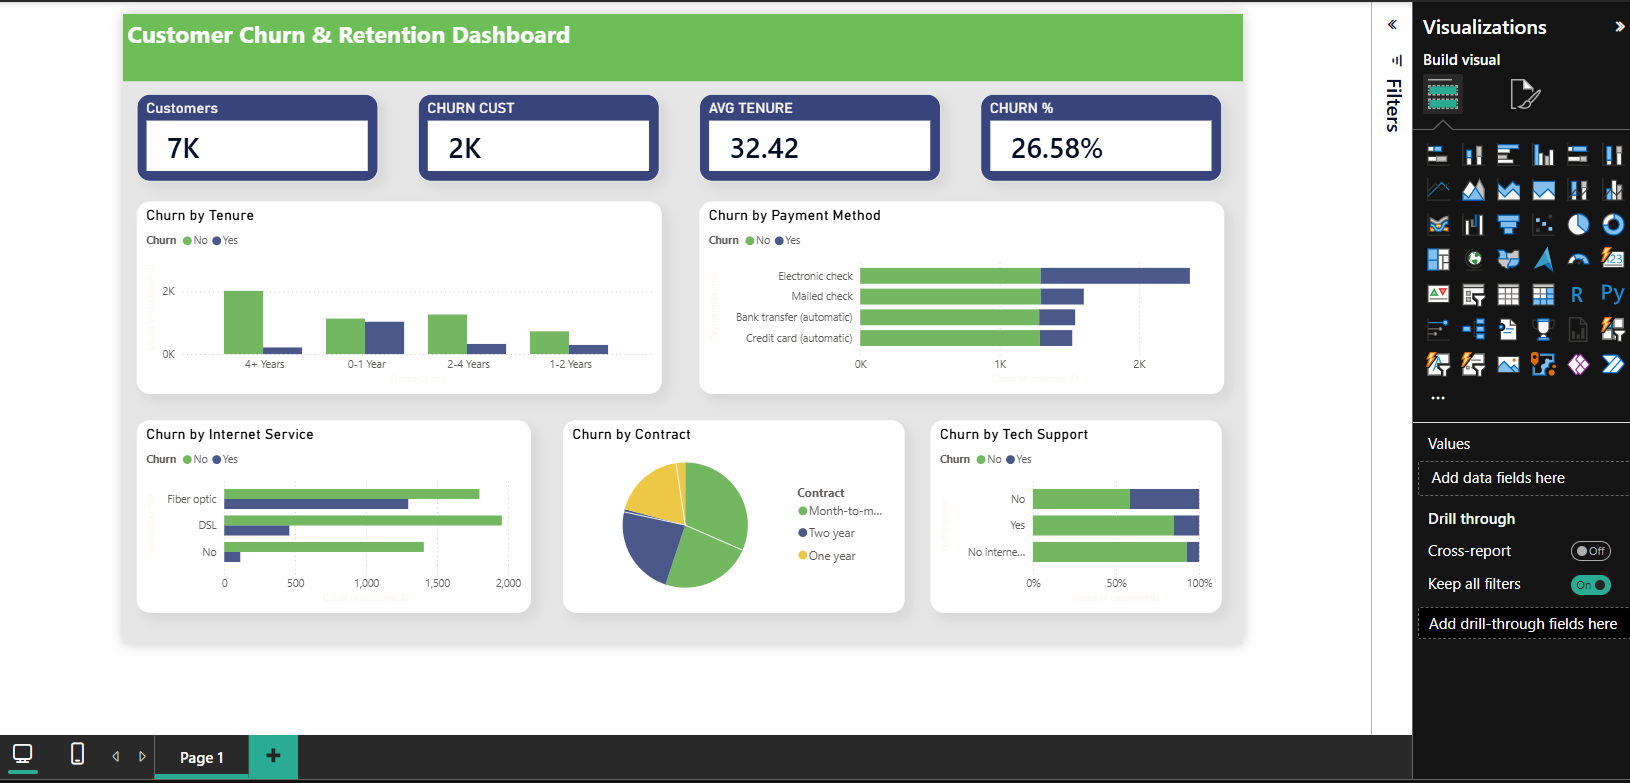

Layout of this report page (visuals, bound fields, positions):
{"tool":"powerbi","page":{"name":"Page 1","canvas":[1280,720],"ordinal":0},"visuals":[{"type":"cardVisual","title":"Customers","fields":{"Data":["Teleco-customer-churn_csv.Total Customers"]},"box":[15.7,91.4,275.7,100],"z":0},{"type":"cardVisual","title":"CHURN CUST","fields":{"Data":["Teleco-customer-churn_csv.Churn Customers"]},"box":[337.1,91.4,275.7,100],"z":1000},{"type":"cardVisual","title":"CHURN %","fields":{"Data":["Teleco-customer-churn_csv.Churn Rate"]},"box":[980,91.4,275.7,100],"z":2000},{"type":"cardVisual","title":"AVG TENURE","fields":{"Data":["Teleco-customer-churn_csv.Avg Tenure"]},"box":[658.6,91.4,275.7,100],"z":3000},{"type":"clusteredColumnChart","title":"Churn by Tenure","fields":{"Category":["Teleco-customer-churn_csv.Tenure Group"],"Series":["Teleco-customer-churn_csv.Churn"],"Y":["CountNonNull(Teleco-customer-churn_csv.customerID)"]},"box":[15.7,214.3,600,220],"z":4000},{"type":"pieChart","title":"Churn by Contract","fields":{"Category":["Teleco-customer-churn_csv.Contract"],"Series":["Teleco-customer-churn_csv.Churn"],"Y":["CountNonNull(Teleco-customer-churn_csv.customerID)"]},"box":[502.9,464.3,390,220],"z":5000},{"type":"barChart","title":"Churn by Payment Method","fields":{"Series":["Teleco-customer-churn_csv.Churn"],"Category":["Teleco-customer-churn_csv.PaymentMethod"],"Y":["CountNonNull(Teleco-customer-churn_csv.customerID)"]},"box":[658.6,214.3,600,220],"z":6000},{"type":"clusteredBarChart","title":"Churn by Internet Service","fields":{"Series":["Teleco-customer-churn_csv.Churn"],"Y":["CountNonNull(Teleco-customer-churn_csv.customerID)"],"Category":["Teleco-customer-churn_csv.InternetService"]},"box":[15.7,464.3,450,220],"z":7000},{"type":"hundredPercentStackedBarChart","title":"Churn by Tech Support","fields":{"Series":["Teleco-customer-churn_csv.Churn"],"Y":["CountNonNull(Teleco-customer-churn_csv.customerID)"],"Category":["Teleco-customer-churn_csv.TechSupport"]},"box":[922.9,464.3,332.9,220],"z":8000},{"type":"textbox","box":[0,0,1280,77.1],"z":9000}]}

Visuals, with their boxes on the page's 1280x720 design canvas (x1, y1, x2, y2). These are canvas units, not pixel positions in the 1630x783 screenshot, which may show the page scaled, cropped or inside an application window:
"Customers" cardVisual: box=[16, 91, 291, 191]
"CHURN CUST" cardVisual: box=[337, 91, 613, 191]
"CHURN %" cardVisual: box=[980, 91, 1256, 191]
"AVG TENURE" cardVisual: box=[659, 91, 934, 191]
"Churn by Tenure" clusteredColumnChart: box=[16, 214, 616, 434]
"Churn by Contract" pieChart: box=[503, 464, 893, 684]
"Churn by Payment Method" barChart: box=[659, 214, 1259, 434]
"Churn by Internet Service" clusteredBarChart: box=[16, 464, 466, 684]
"Churn by Tech Support" hundredPercentStackedBarChart: box=[923, 464, 1256, 684]
textbox: box=[0, 0, 1280, 77]
